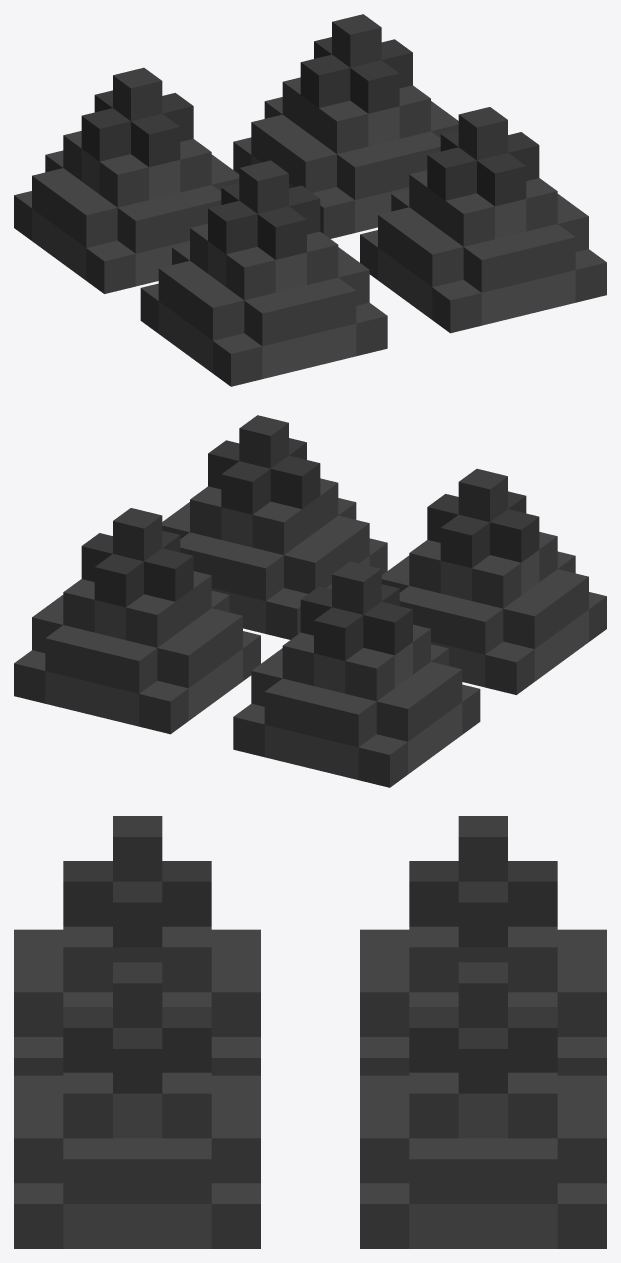
The model's file is Spike.obj.
3 views of the same model, one above another, from view 1: azimuth 30°, elevation 25°; view 2: azimuth 150°, elevation 25°; view 3: azimuth 270°, elevation 25° (orthographic). The views are drawn at different scales.
Size of the model in its own units: 1.2 by 0.5 by 1.2.
1 material, 1 textured.
